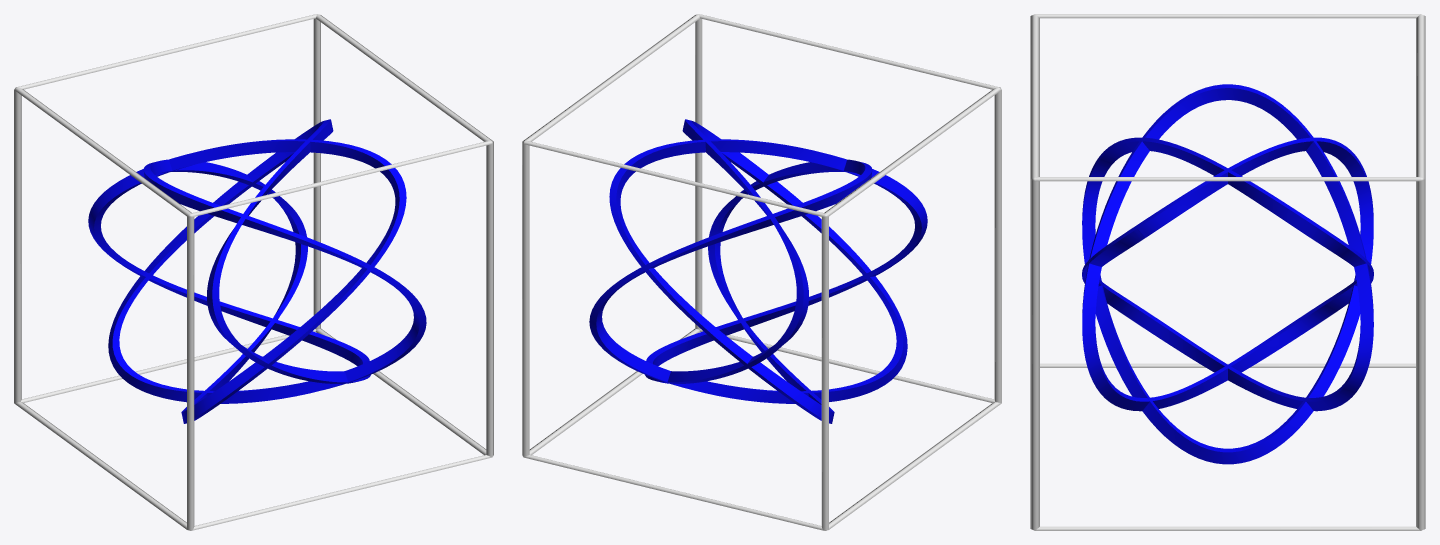
File: lissajous.glb
3 views of the same model, side by side, from view 1: azimuth 30°, elevation 25°; view 2: azimuth 150°, elevation 25°; view 3: azimuth 270°, elevation 25° (orthographic). The views are drawn at different scales.
Parts seen in each view (by area): view 1: Geom, Würfel; view 2: Geom, Würfel; view 3: Geom, Würfel.
Boxes of the visible parts, bbox=[...] form: Geom: bbox=[88, 119, 426, 423]; Würfel: bbox=[14, 14, 493, 530]; Geom: bbox=[589, 119, 927, 423]; Würfel: bbox=[522, 14, 1001, 530]; Geom: bbox=[1082, 84, 1373, 464]; Würfel: bbox=[1030, 14, 1425, 530].
Bounding box in the file's own units: 8.2 × 8.1 × 8.2.
